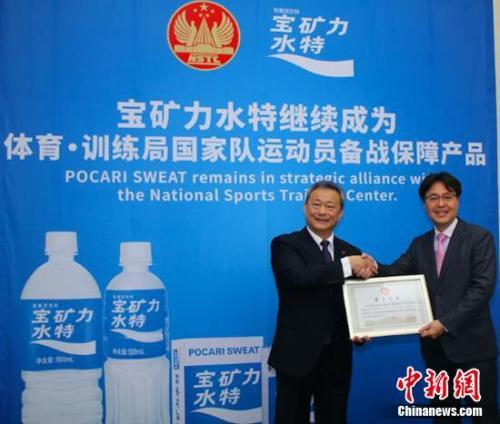POCARI SWEAT: (17, 229, 104, 424), (102, 241, 170, 424)
